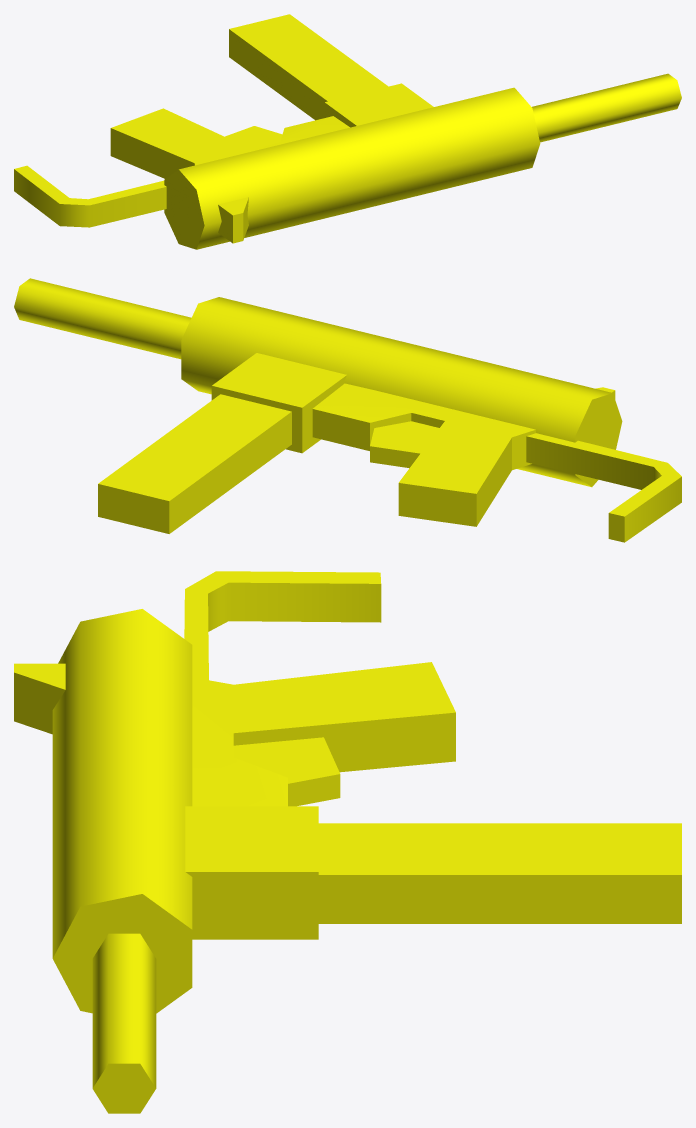
File: weapon_greasegun.glb
3 renders of one model, top to bottom at view 1: azimuth 30°, elevation 25°; view 2: azimuth 150°, elevation 25°; view 3: azimuth 270°, elevation 25°, orthographic. The views are drawn at different scales.
Parts seen in each view (by area): view 1: weapon_greasegun; view 2: weapon_greasegun; view 3: weapon_greasegun.
Part boxes in pixels (x1,y1,x2,y2): weapon_greasegun: (14,14,681,249); weapon_greasegun: (14,278,681,542); weapon_greasegun: (14,571,681,1113).
Bounding box in the file's own units: 1.12 × 0.1364 × 0.6356.
Materials: 1 (1 with a texture image).
